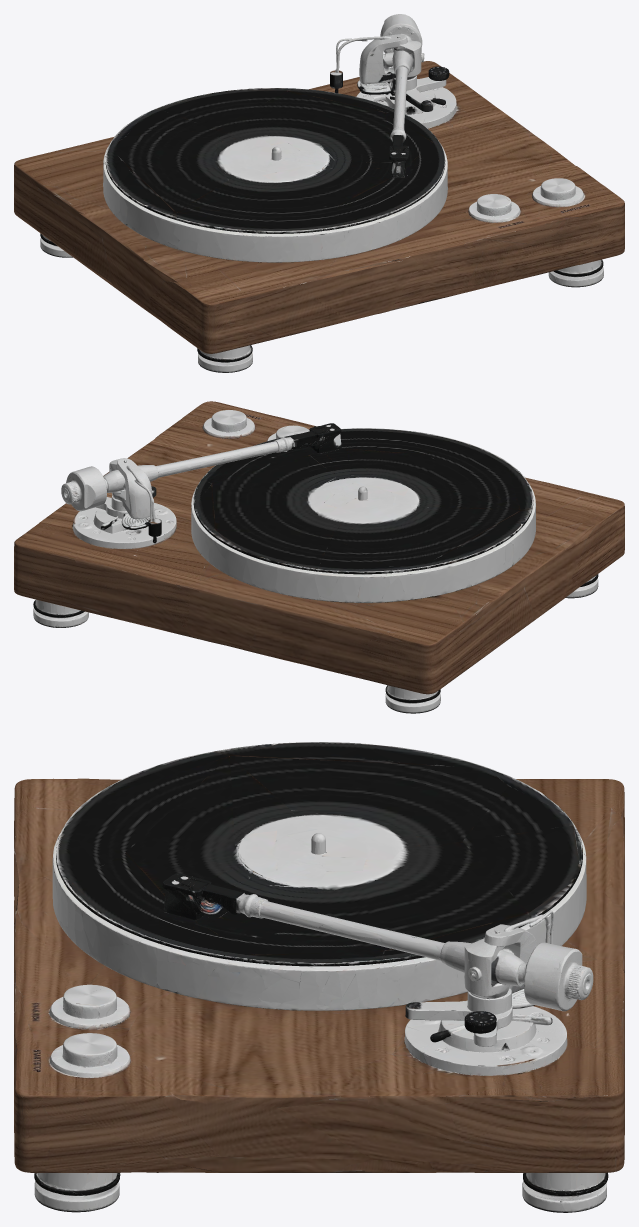
Rendered from turntable.glb.
3 renders of one model, top to bottom at view 1: azimuth 30°, elevation 25°; view 2: azimuth 150°, elevation 25°; view 3: azimuth 270°, elevation 25°, orthographic. The views are drawn at different scales.
Parts seen in each view (by area): view 1: Mesh_0; view 2: Mesh_0; view 3: Mesh_0.
Part boxes in pixels (x1=…): Mesh_0: x1=14, y1=14, x2=624, y2=372; Mesh_0: x1=14, y1=401, x2=624, y2=713; Mesh_0: x1=14, y1=742, x2=624, y2=1212.
Bounding box in the file's own units: 1.9 × 0.6463 × 1.54.
1 material, 1 textured.
